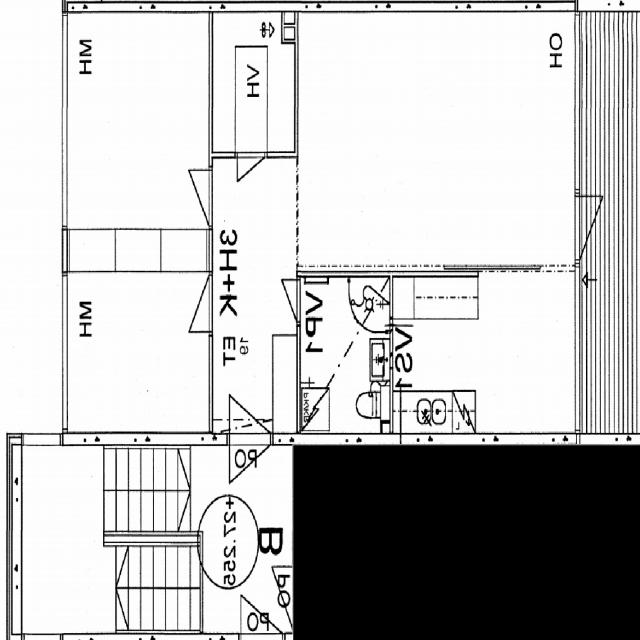door: (229, 367, 271, 445), (229, 432, 271, 508), (575, 197, 621, 259), (530, 212, 569, 276), (173, 169, 213, 225), (174, 276, 213, 331), (237, 152, 265, 200), (271, 280, 300, 320)
